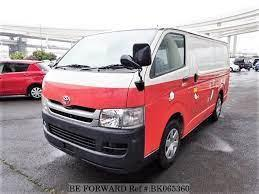van: (34, 28, 235, 169)
